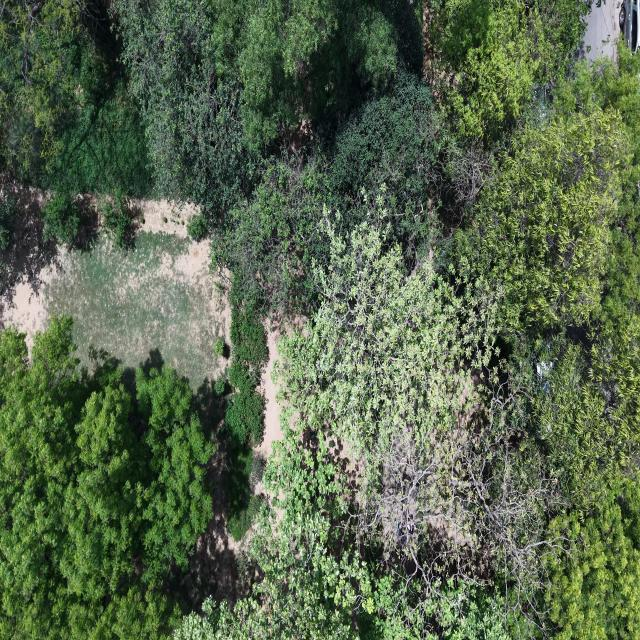DRY_AREA: (0, 191, 230, 390), (0, 192, 230, 391), (0, 202, 230, 389), (256, 315, 307, 458), (579, 0, 623, 60)
VEGETATION_TREE: (0, 0, 639, 639), (178, 51, 639, 638), (111, 0, 419, 228), (0, 318, 212, 638), (112, 0, 417, 205), (212, 74, 443, 309), (177, 431, 375, 639), (455, 108, 625, 331), (0, 0, 152, 243), (111, 0, 258, 222), (39, 232, 228, 396), (0, 0, 150, 195), (423, 0, 591, 143), (328, 72, 446, 253), (212, 158, 328, 308), (136, 366, 213, 577), (0, 2, 92, 172), (39, 60, 151, 196), (548, 481, 639, 639), (225, 304, 267, 447), (227, 446, 263, 541), (42, 186, 79, 244), (100, 189, 132, 247), (0, 194, 17, 250), (186, 214, 208, 242), (213, 337, 227, 356), (214, 376, 226, 395), (163, 217, 167, 223)
